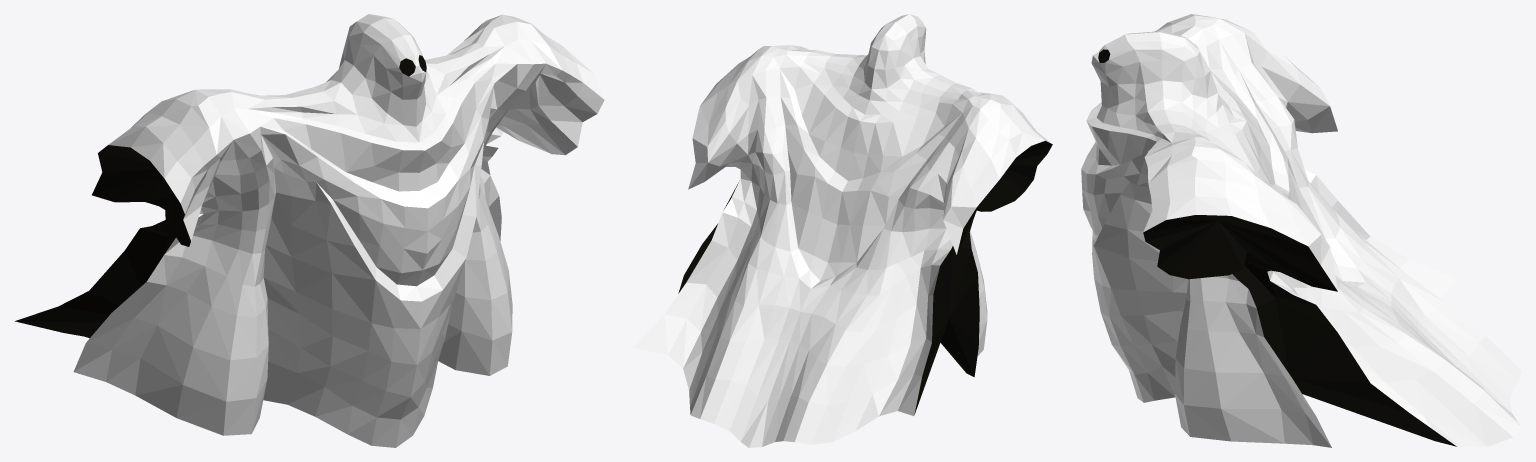
The model's file is balloon-lod0.glb.
The picture shows the model from 3 angles, left to right: view 1: azimuth 30°, elevation 25°; view 2: azimuth 150°, elevation 25°; view 3: azimuth 270°, elevation 25°; orthographic projection. The views are drawn at different scales.
Visible parts, largest first — view 1: Ghost; view 2: Ghost; view 3: Ghost.
Boxes of the visible parts, x1,y1,x2,y2 form: Ghost: (15, 14, 604, 447); Ghost: (633, 14, 1052, 447); Ghost: (1081, 14, 1521, 447).
Size of the model in its own units: 5.88 by 5.85 by 6.
1 material, 1 textured.
